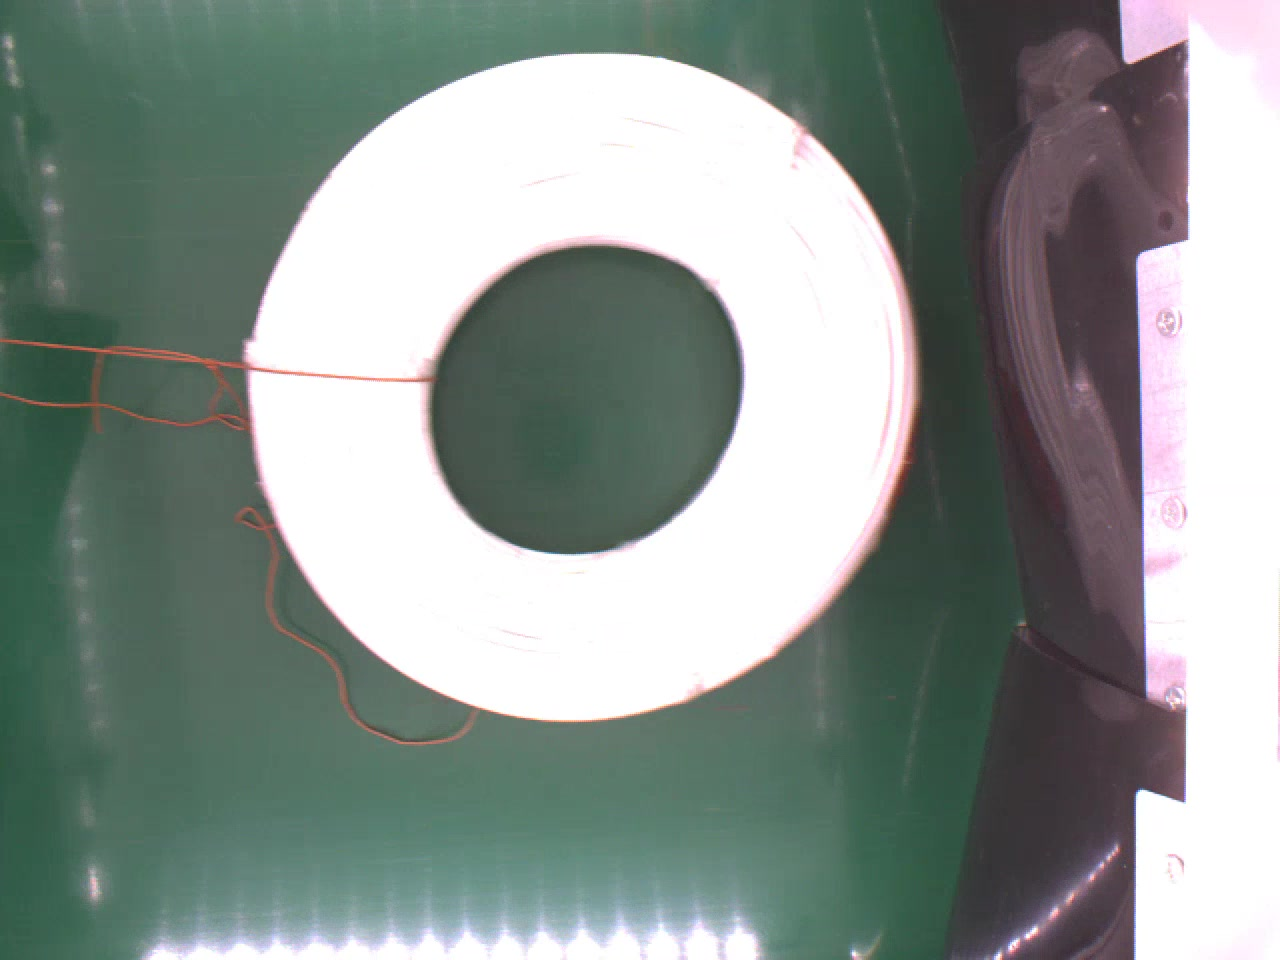white: (243, 51, 918, 734)
